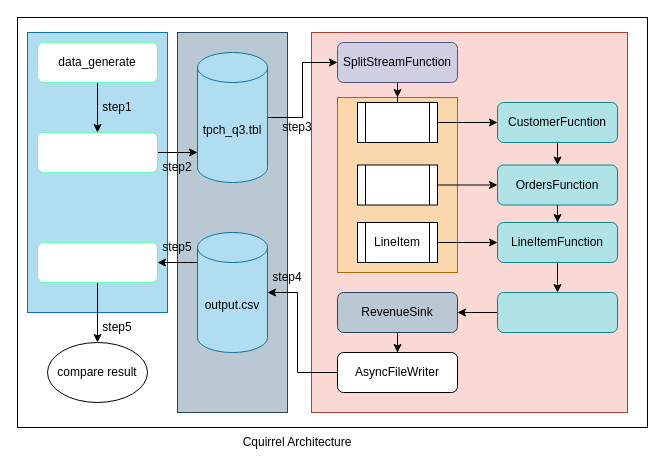
Some shapes in this 665 by 475 pixel diagram are drawn without their labels. The shapes that lost their labels are listed below. From the top down, each one's centre as x and y in pixels, then its label:
(397,122): Customer
(97,152): data_merge
(397,184): Orders
(97,262): data_check
(557,312): AggregateFunction
